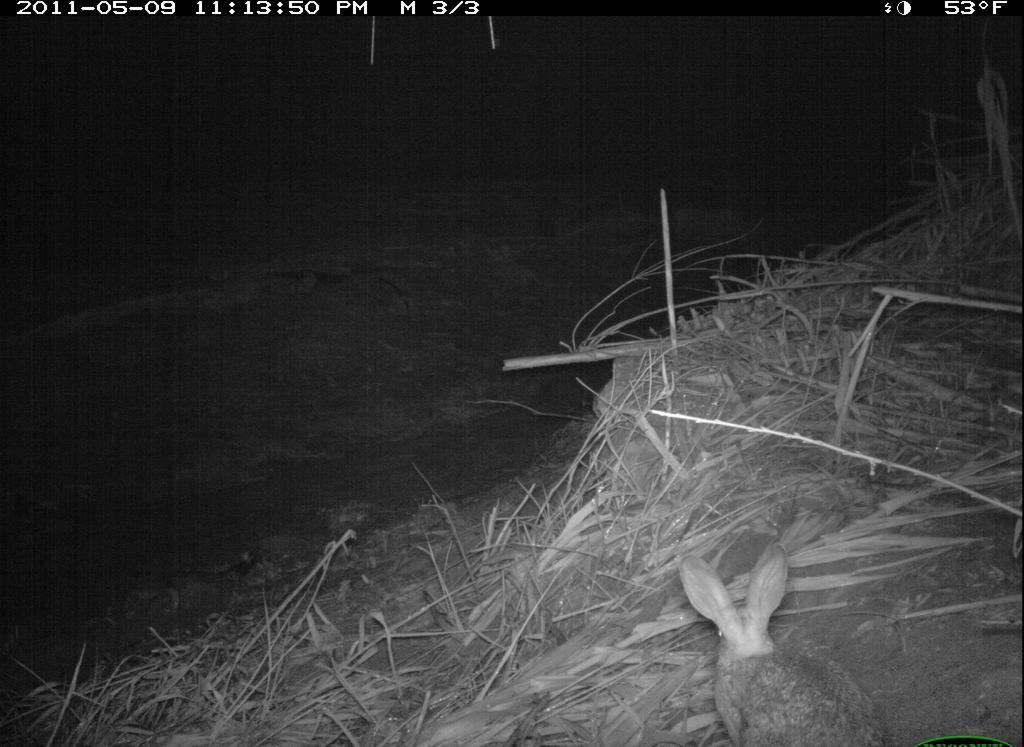rabbit: (670, 534, 902, 747)
